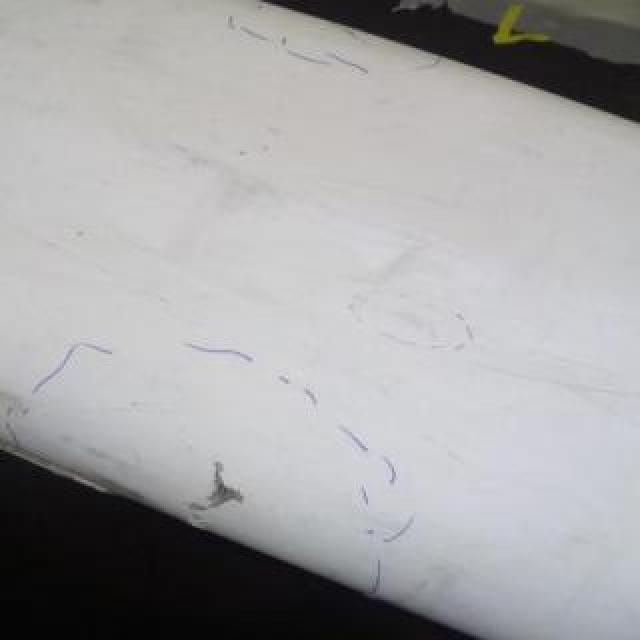crack: (182, 460, 248, 532)
